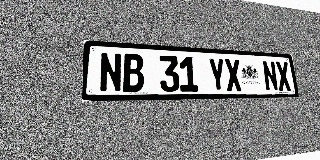1: (178, 56, 198, 92)
3: (159, 55, 180, 92)
B: (123, 53, 144, 92)
N: (99, 52, 122, 92), (262, 61, 279, 91)
X: (224, 59, 242, 91), (275, 61, 292, 91)
Y: (208, 58, 227, 92)
